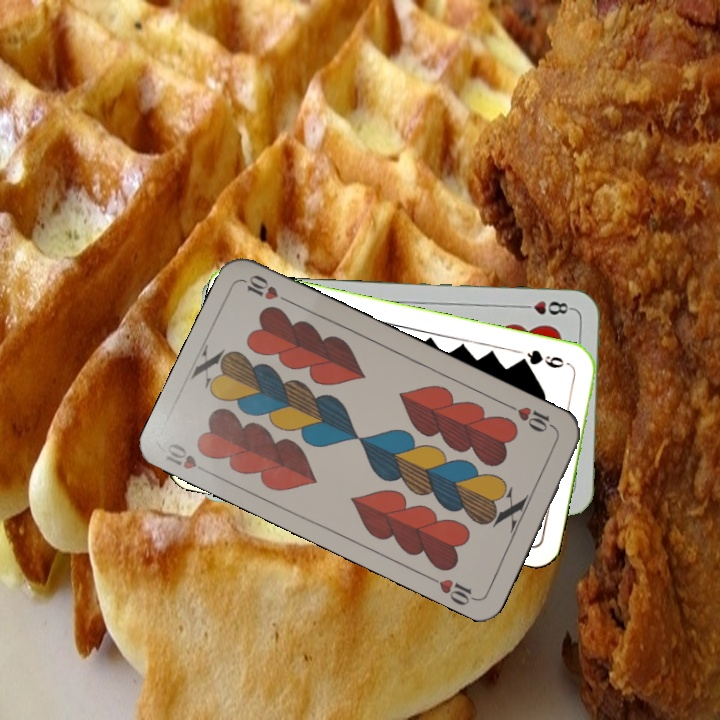G9: (514, 345, 574, 371)
H10: (161, 439, 216, 478), (504, 400, 559, 435)
H8: (516, 297, 575, 318)
